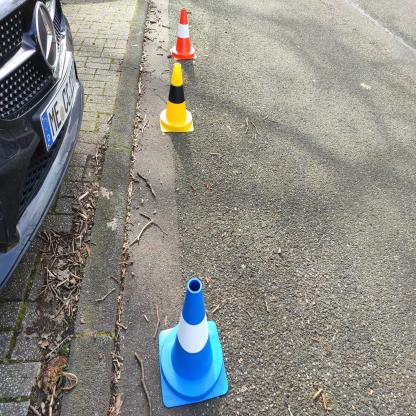Cones_small_blue: (142, 260, 236, 410)
Cones_small_orange: (166, 4, 203, 63)
Cones_small_yellow: (160, 55, 195, 140)
